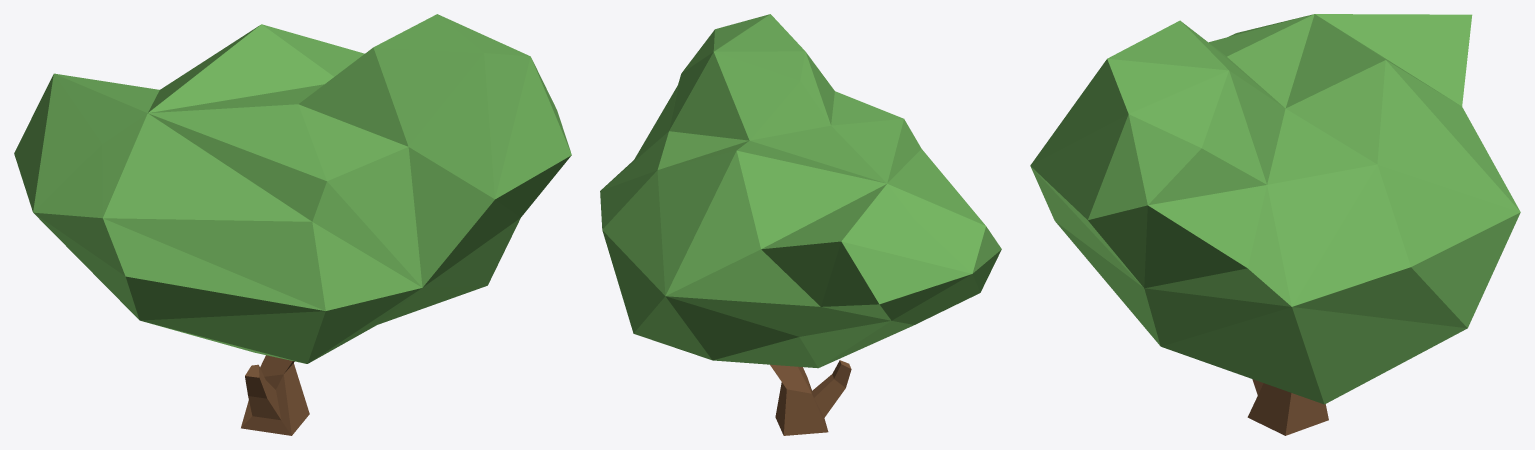
The model's file is Env_Bush01_2.fbx.
3 renders of one model, left to right at view 1: azimuth 30°, elevation 25°; view 2: azimuth 150°, elevation 25°; view 3: azimuth 270°, elevation 25°, orthographic. The views are drawn at different scales.
Parts seen in each view (by area): view 1: Env_Bush01_2; view 2: Env_Bush01_2; view 3: Env_Bush01_2.
Boxes of the visible parts, <box> form: Env_Bush01_2: <box>14,14,571,435</box>; Env_Bush01_2: <box>600,14,1001,435</box>; Env_Bush01_2: <box>1030,14,1520,435</box>.
Size of what is drawn, in the model's own units: 111 by 96.26 by 91.74.
